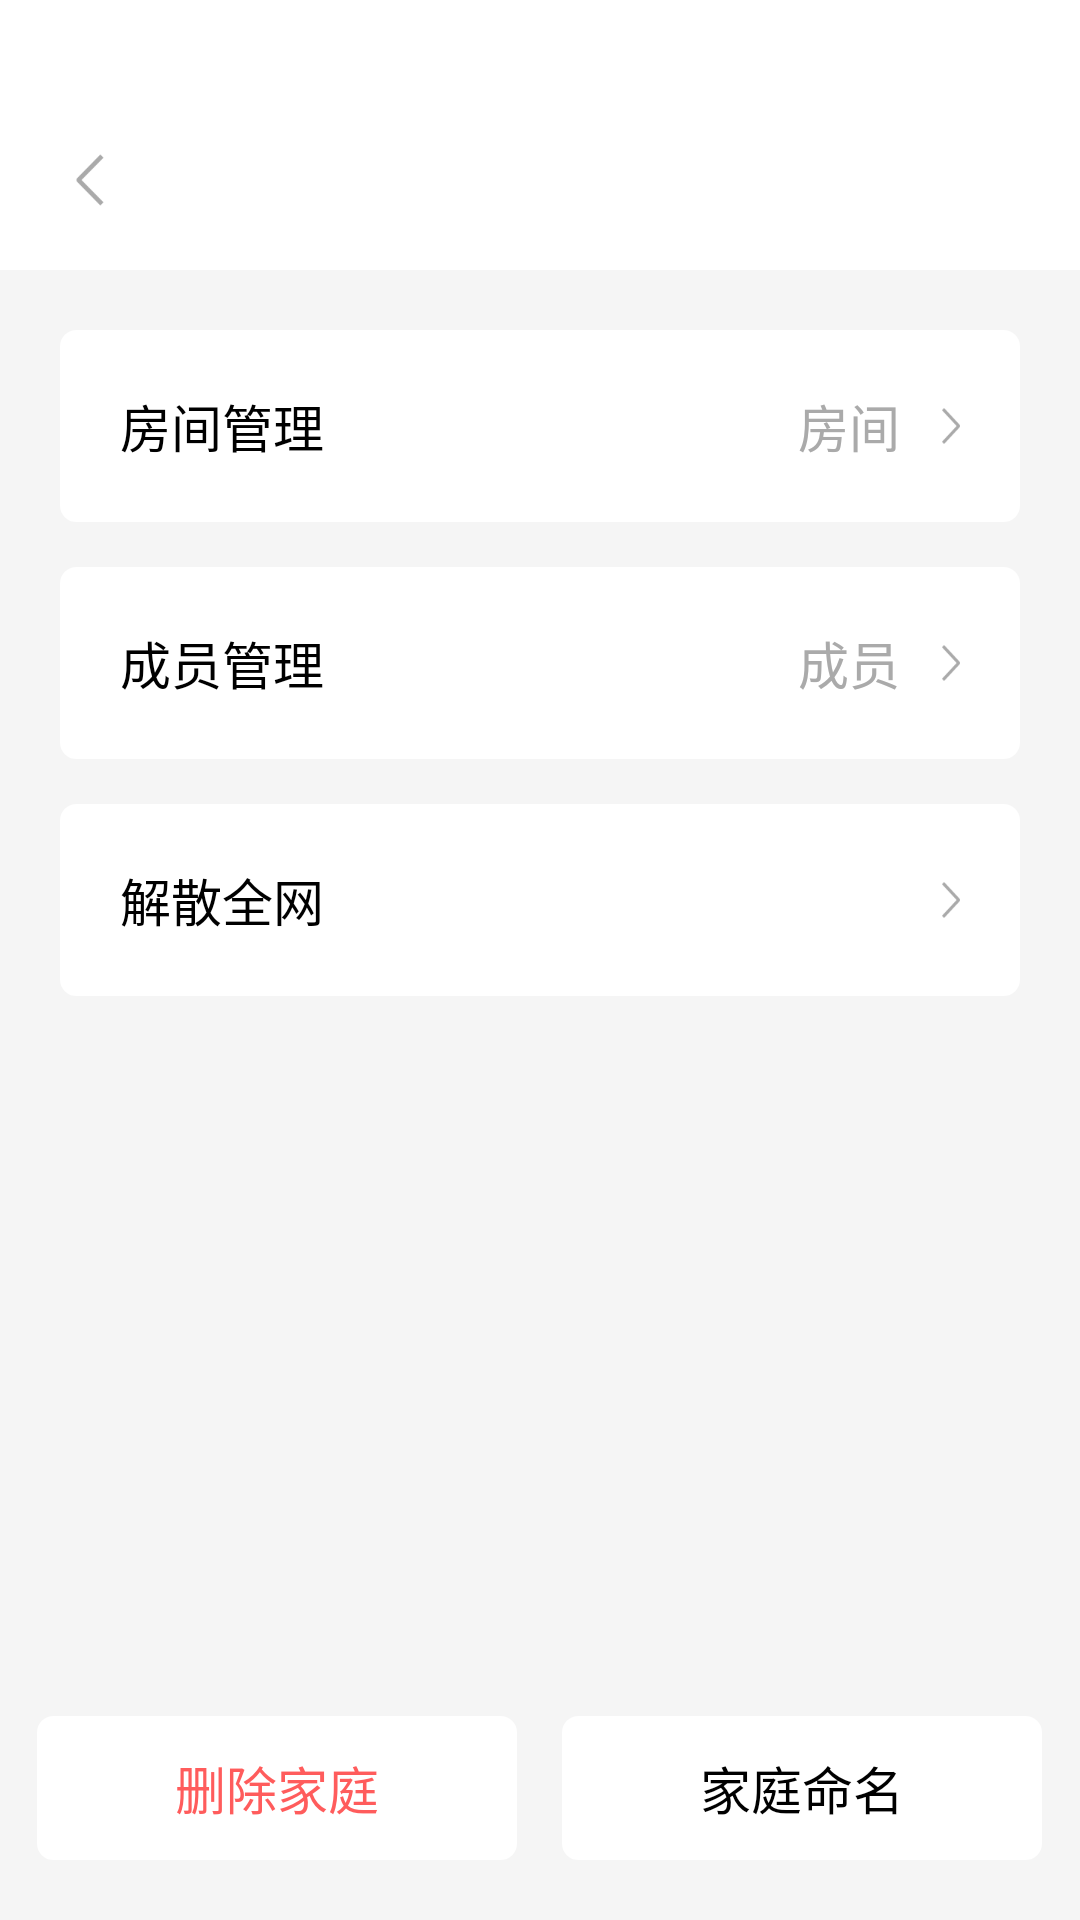

Icon click points for this 1080px×1920px phone screenshot, format (x,y):
back: (89,180)
